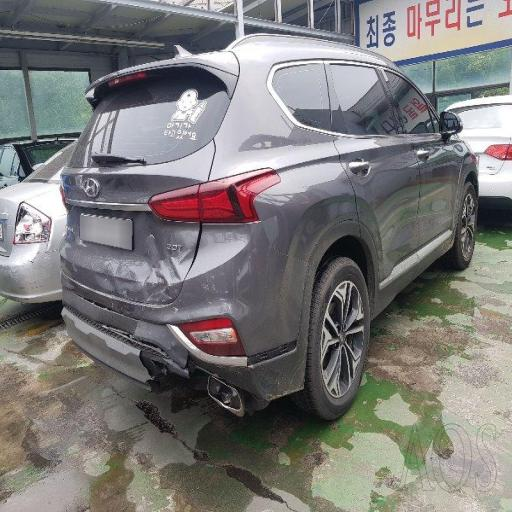broken: (120, 295, 294, 449)
dent: (67, 138, 234, 320)
